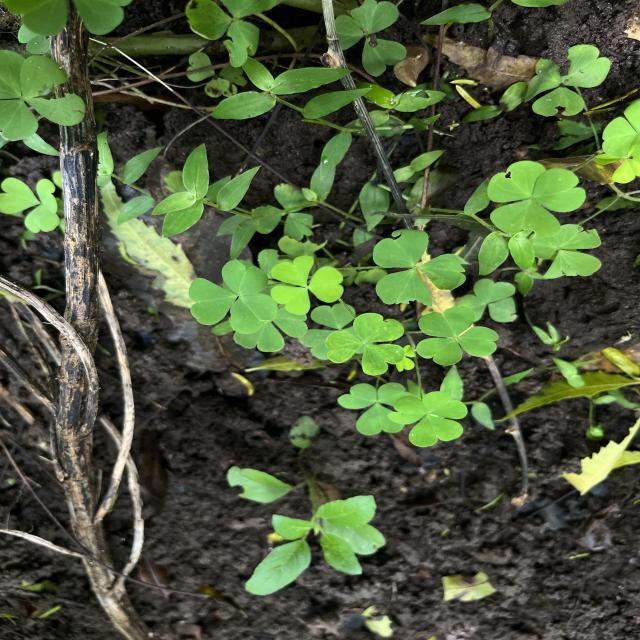Oxalis corniculata: (0, 49, 87, 142), (486, 160, 588, 239), (371, 227, 468, 310), (187, 260, 277, 334), (324, 311, 406, 376), (416, 306, 498, 368), (386, 390, 468, 448), (269, 256, 345, 316), (524, 227, 602, 282), (336, 381, 406, 436)
